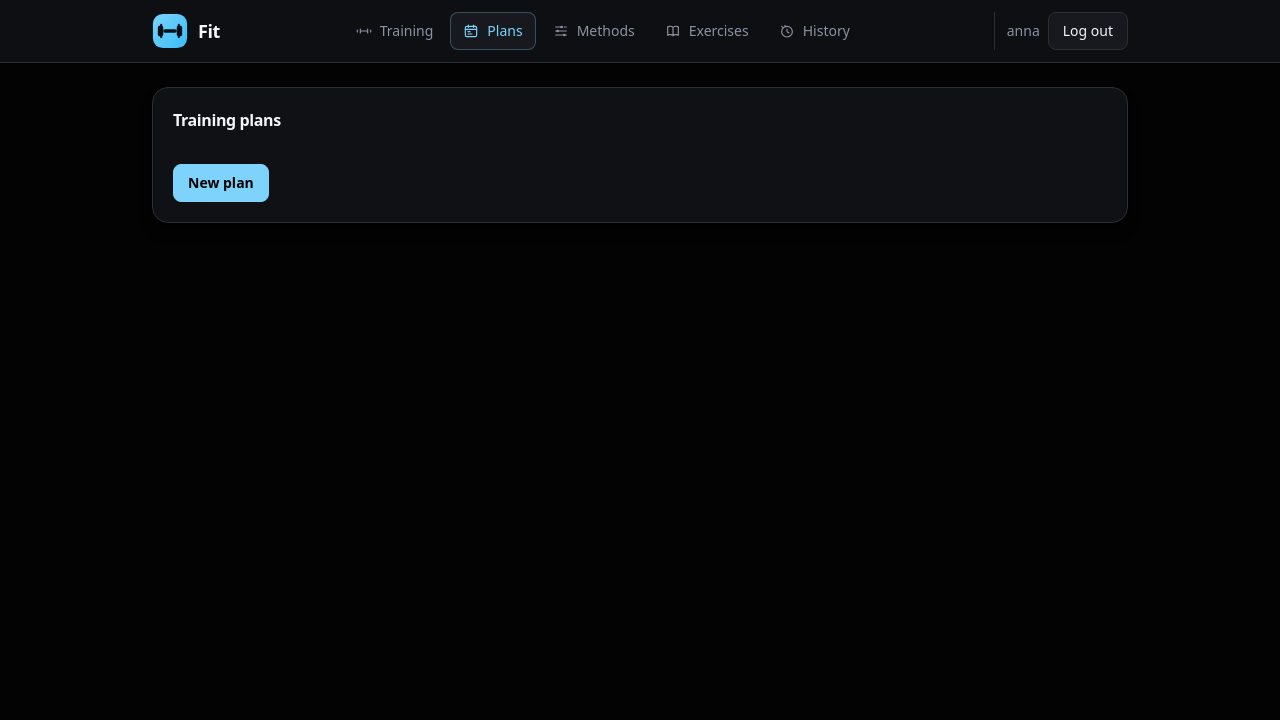
Test: authentication flow › shows the username and logs out
Expected: the text "anna" is shown, [1007,21,1040,41]
Click the button "Log out" at (1088, 31), box [1048,12,1128,50]
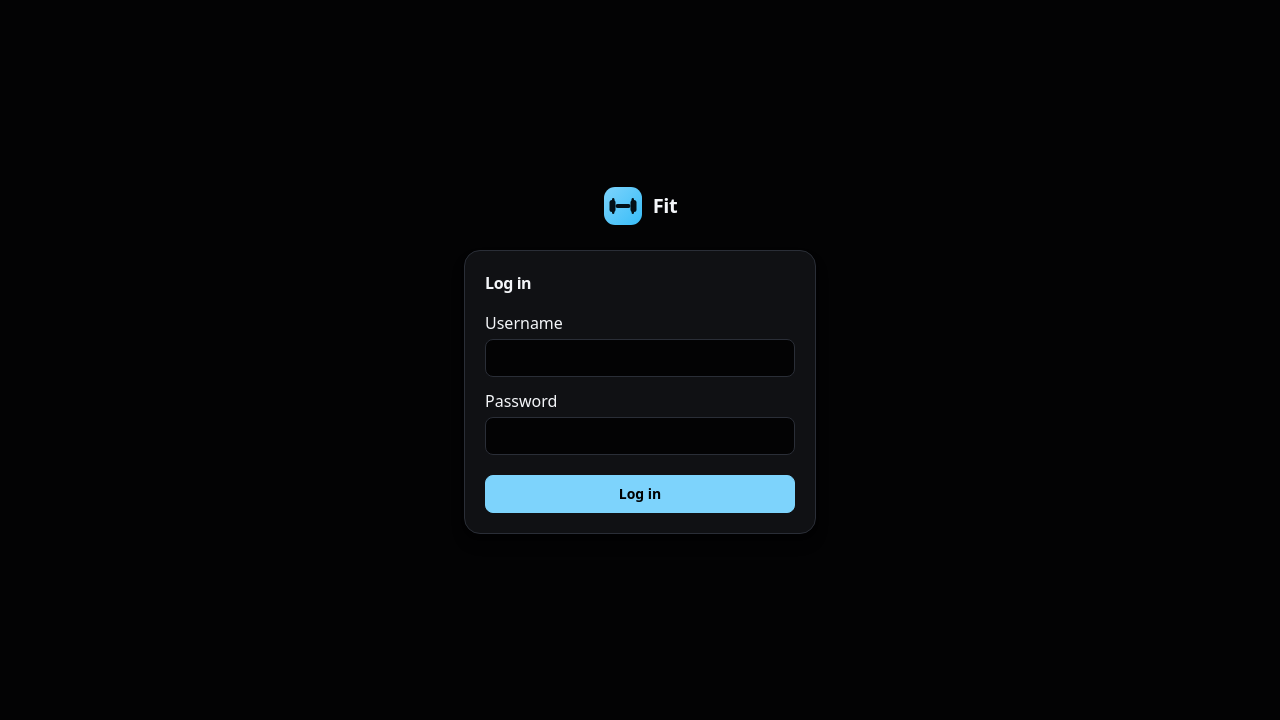
Expected: the heading "Log in" is shown, [485,272,531,294]
